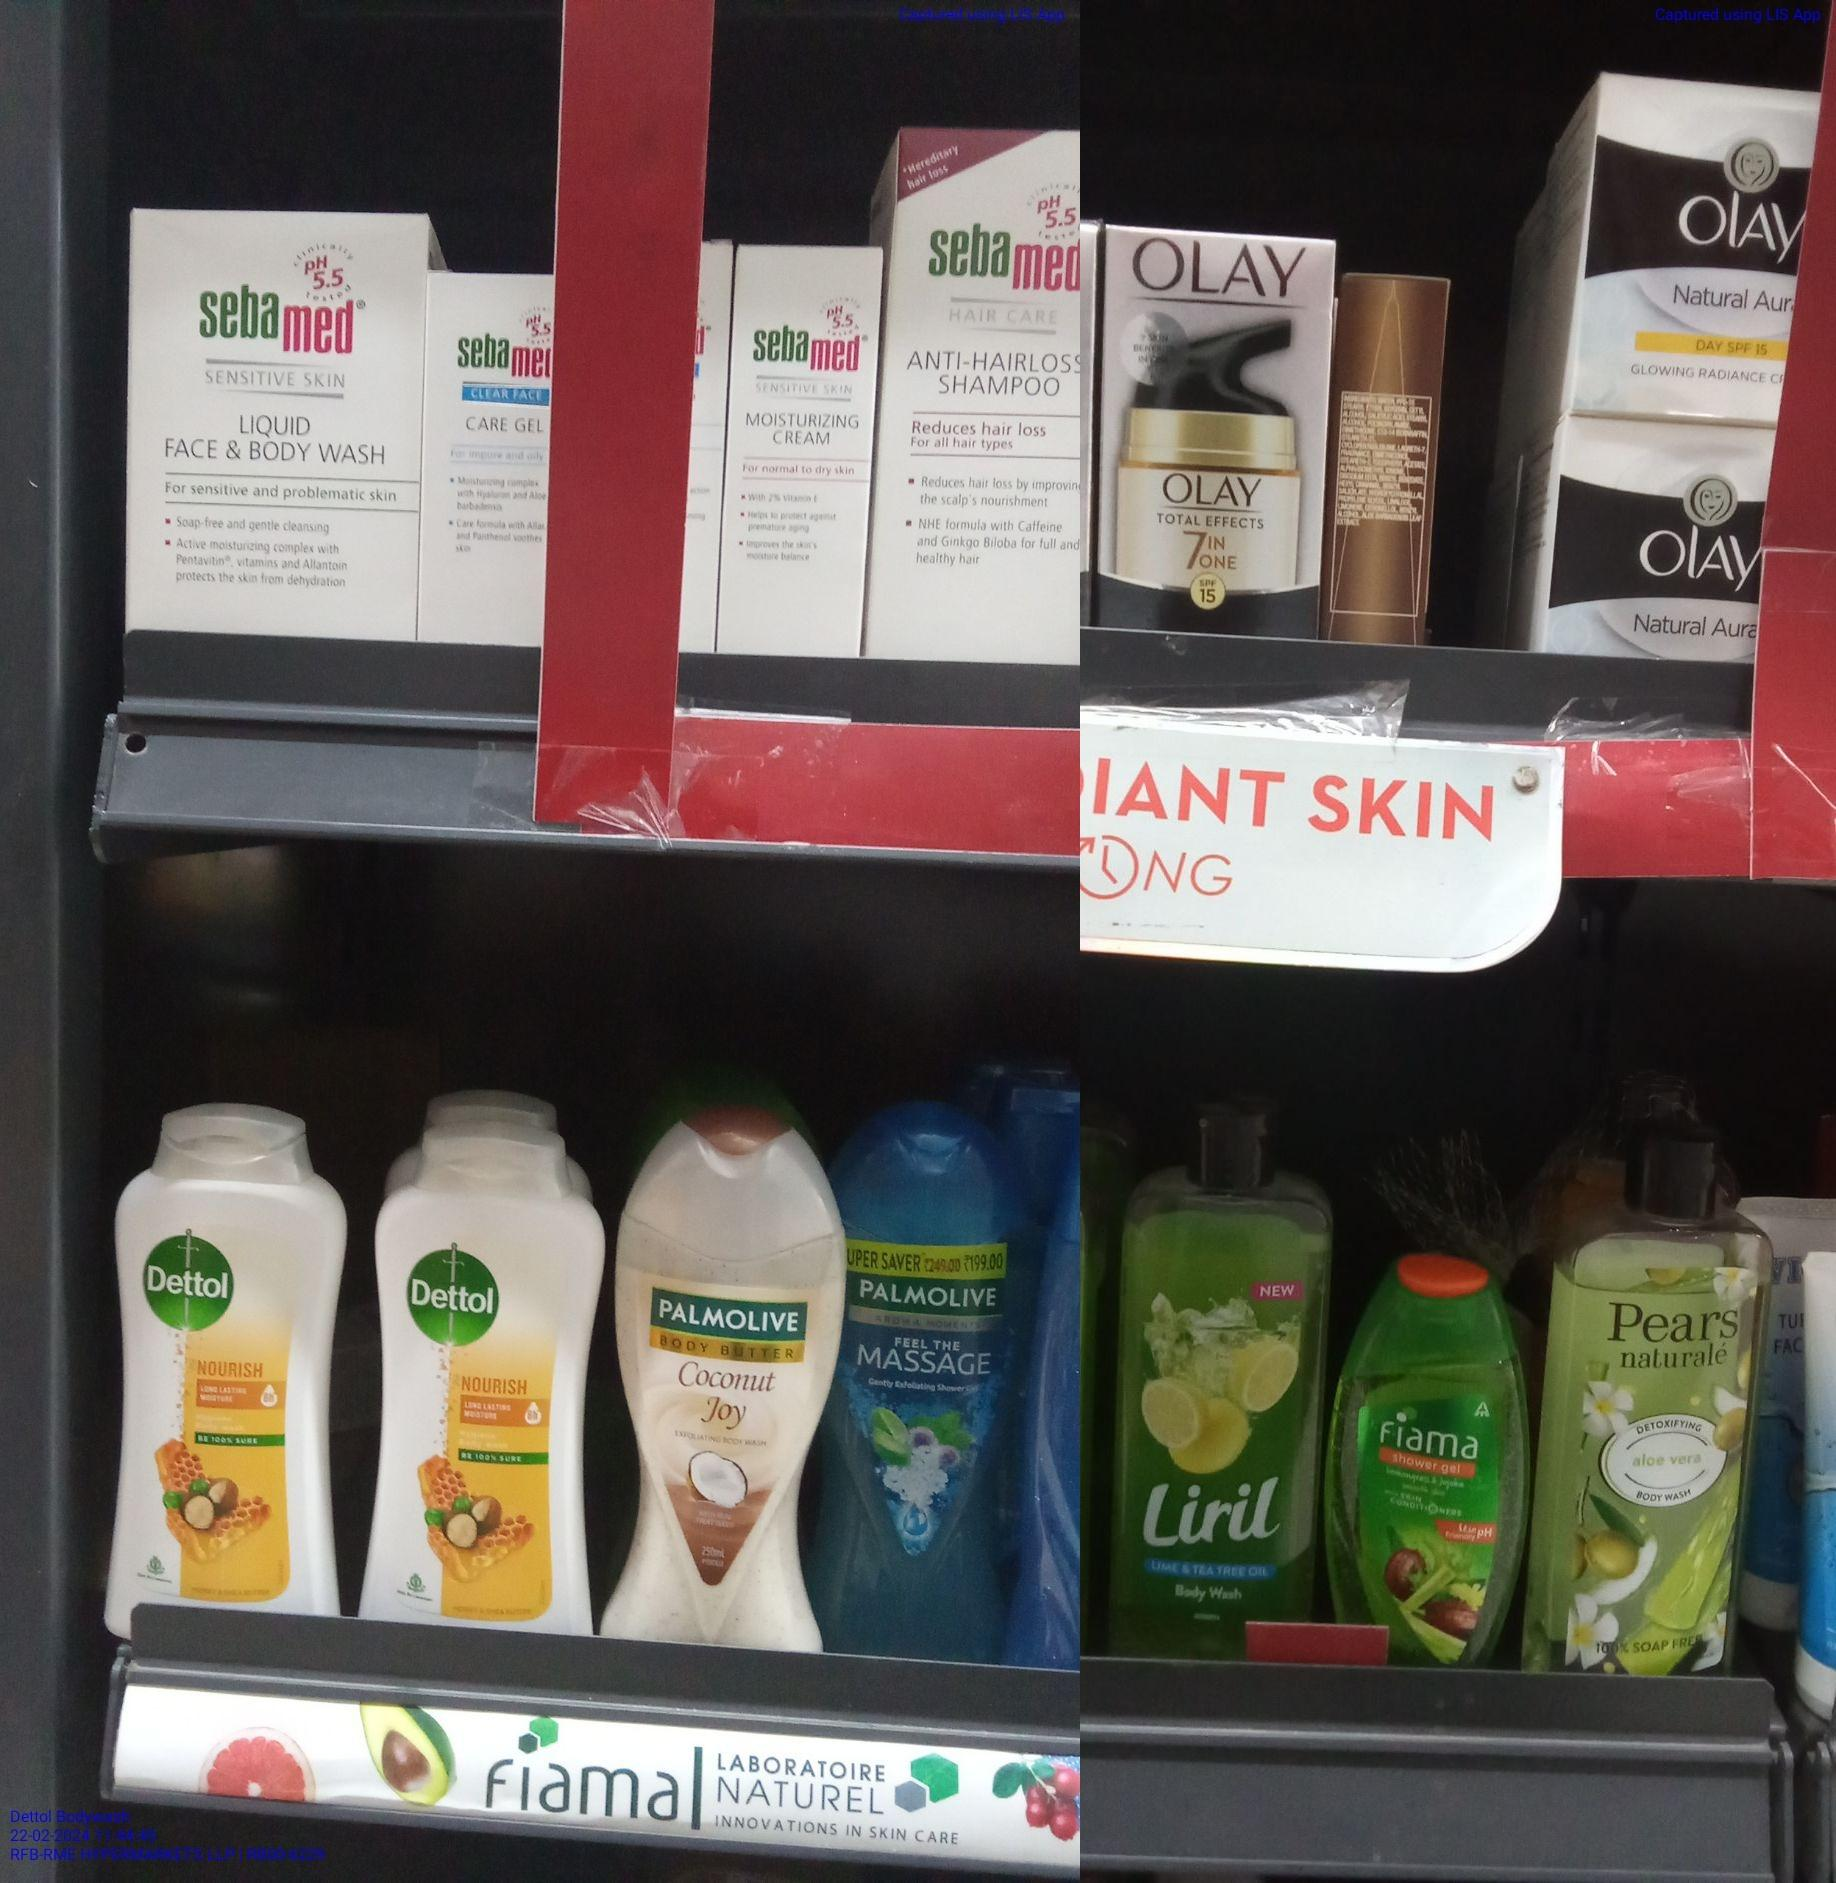Dettol_Nourish_Body_Wash_250ML: (353, 1140, 602, 1638), (108, 1110, 333, 1626)
Fiama_Shower_Gel_Lemongrass_and_Jojoba_250ML: (1333, 1259, 1513, 1663)
Liril_Lime_and_Tea_Tree_Oil_Body_Wash_250ML: (1120, 1113, 1323, 1658)
Palmolive_Aroma_Moments_Feel_The_Massage_Shower_Gel_250ML: (836, 1118, 1017, 1658)
Palmolive_Coconut_Joy_Exfoliating_Body_Wash_250ML: (620, 1123, 831, 1653)
Pears_Naturale_Aloe_Vera_Body_Wash_250ML: (1545, 1138, 1767, 1664)
